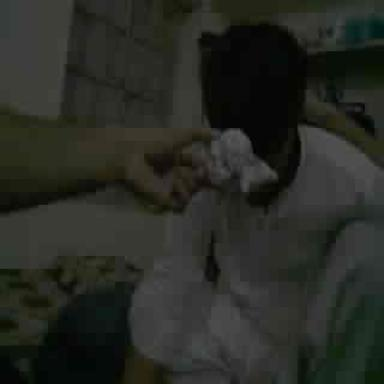paper: (191, 130, 277, 194)
